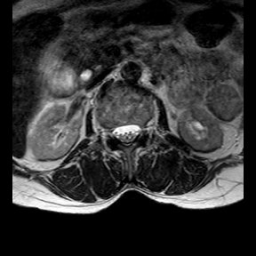CCS_normal: (120, 116, 129, 152)
LFS_normal: (138, 114, 147, 142)
LLS_normal: (129, 115, 138, 146)
RFS_normal: (104, 117, 112, 145)
RLS_normal: (112, 117, 120, 147)
